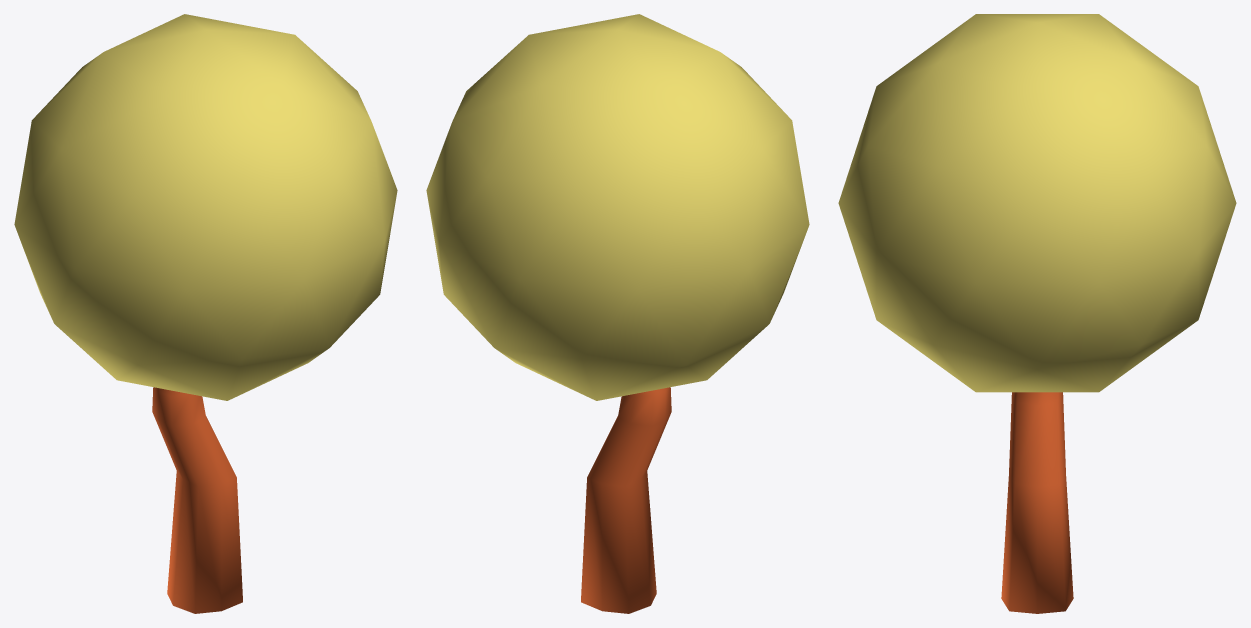
The model's file is Tree_003.fbx.
The picture shows the model from 3 angles, left to right: view 1: azimuth 30°, elevation 25°; view 2: azimuth 150°, elevation 25°; view 3: azimuth 270°, elevation 25°; orthographic projection.
Parts seen in each view (by area): view 1: Tree_003; view 2: Tree_003; view 3: Tree_003.
Boxes of the visible parts, x1=… form: Tree_003: x1=14, y1=14, x2=397, y2=613; Tree_003: x1=426, y1=14, x2=809, y2=613; Tree_003: x1=838, y1=14, x2=1236, y2=613.
Size of the model in its own units: 1340 by 2254 by 1409.
